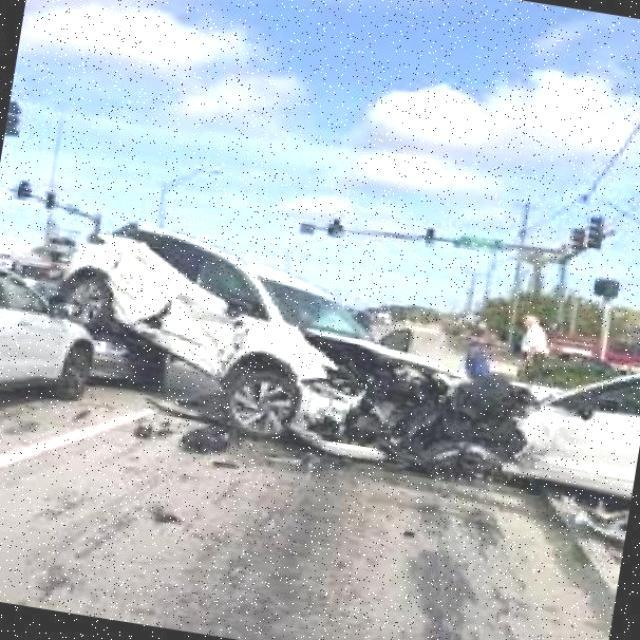accident: (30, 208, 640, 538)
